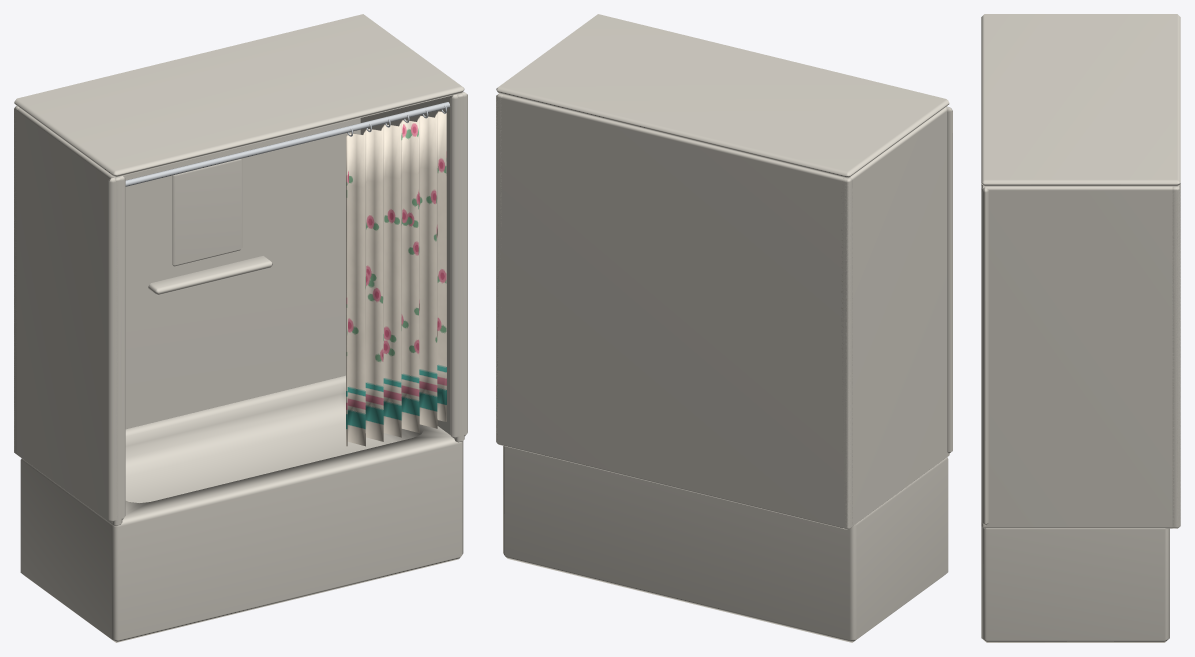
Rendered from bathtub.glb.
3 views of the same model, side by side, from view 1: azimuth 30°, elevation 25°; view 2: azimuth 150°, elevation 25°; view 3: azimuth 270°, elevation 25° (orthographic). The views are drawn at different scales.
Parts seen in each view (by area): view 1: model; view 2: model; view 3: model.
Part boxes in pixels (x1,y1,x2,y2): model: (14,14,467,642); model: (496,14,952,642); model: (981,14,1180,642).
Size of the model in its own units: 1.53 by 1.93 by 0.75.
Materials: 3 (1 with a texture image).
